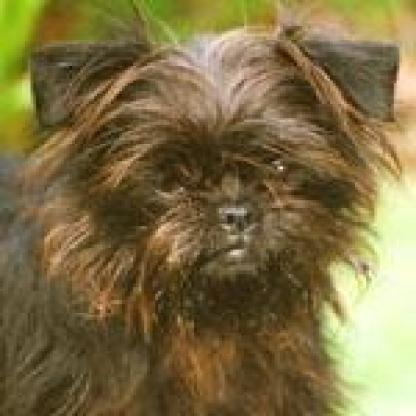affenpinscher: (0, 13, 405, 411)
